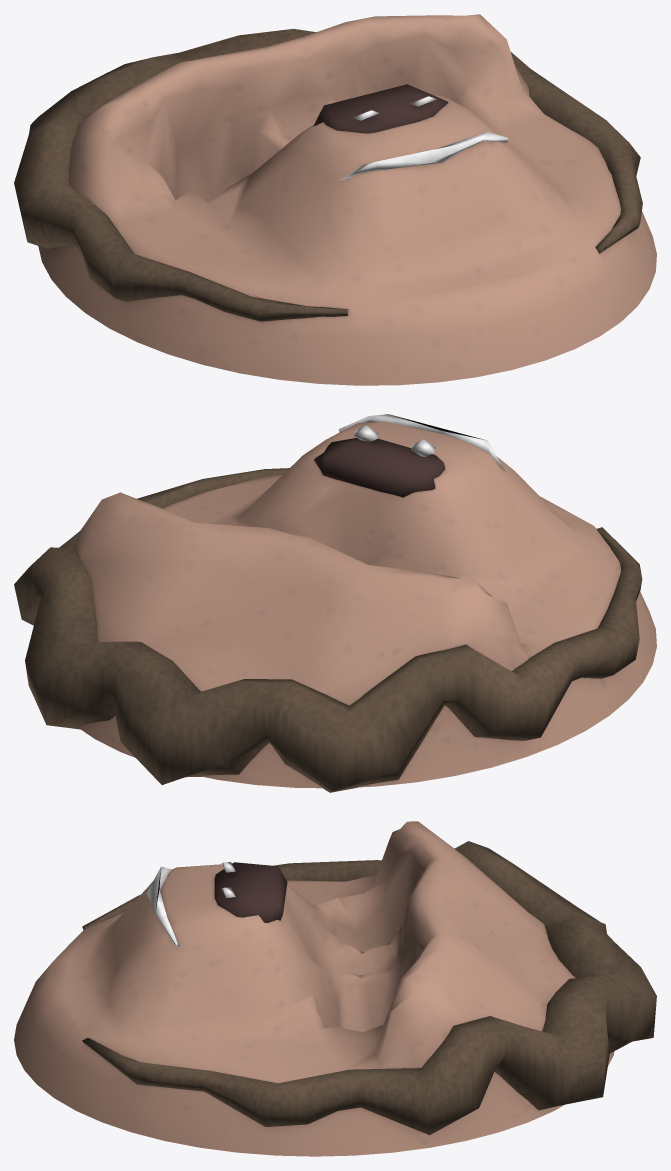
File: cpart_muzzle_primate.glb
3 renders of one model, top to bottom at view 1: azimuth 30°, elevation 25°; view 2: azimuth 150°, elevation 25°; view 3: azimuth 270°, elevation 25°, orthographic. The views are drawn at different scales.
Visible parts, largest first — view 1: MuzzlePrimate, FurFrame, Nose, Cavities; view 2: MuzzlePrimate, FurFrame, Nose, Cavities; view 3: MuzzlePrimate, FurFrame, Nose, Cavities.
Part boxes in pixels (x1,y1,x2,y2): MuzzlePrimate: (38,14,656,385); FurFrame: (14,28,642,321); Nose: (314,84,448,133); Cavities: (340,96,507,180); MuzzlePrimate: (73,421,656,788); FurFrame: (14,468,642,792); Nose: (314,438,445,497); Cavities: (338,414,505,471); MuzzlePrimate: (14,821,614,1156); FurFrame: (82,841,656,1135); Nose: (214,862,287,922); Cavities: (146,862,235,946).
Size of the model in its own units: 0.0893 by 0.03 by 0.1025.
Materials: 4 (4 with a texture image).
